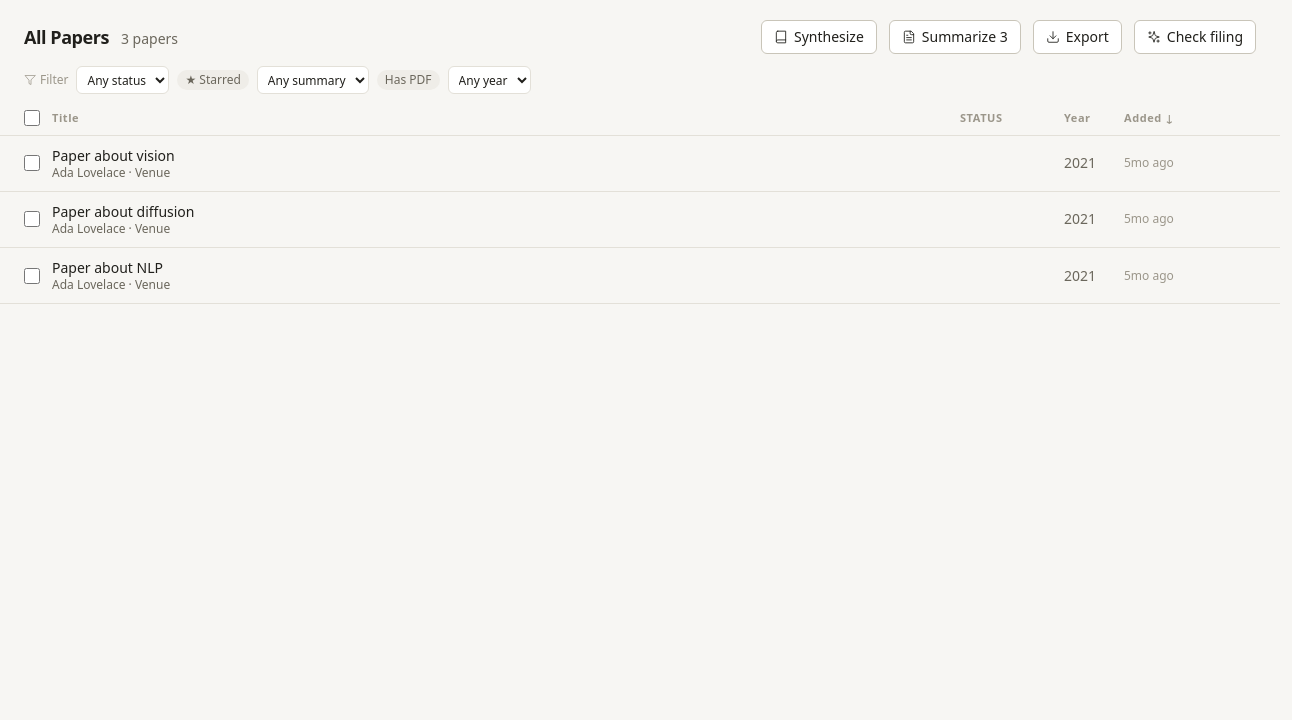
Scenario: LibraryView · synthesis entry › scopes synthesis to the checked subset
Click the checkbox named "Select Paper about diffusion".
click(32, 219)  # box [24,211,40,227]
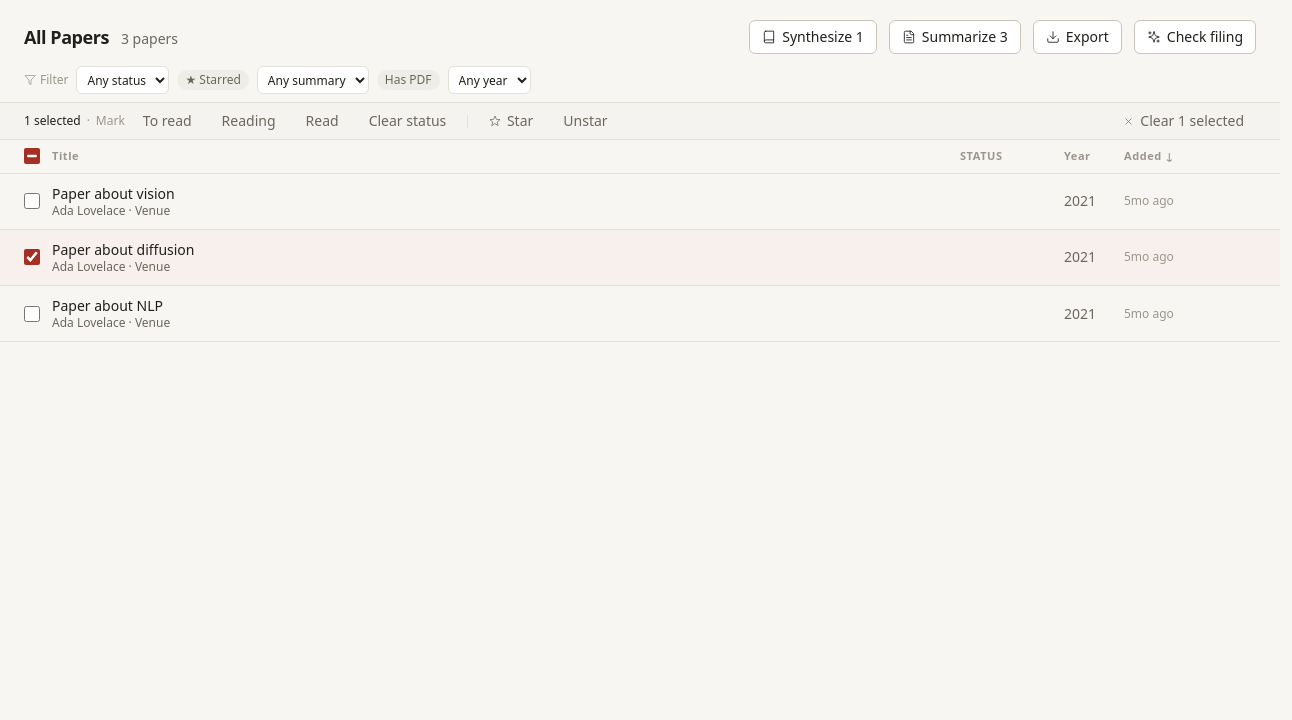
Result: the button "Synthesize 1" is shown
Result: the button "Clear 1 selected" is shown at [1111,109,1256,133]
Click the button "Synthesize 1".
click(813, 37)  # box [749,20,877,54]
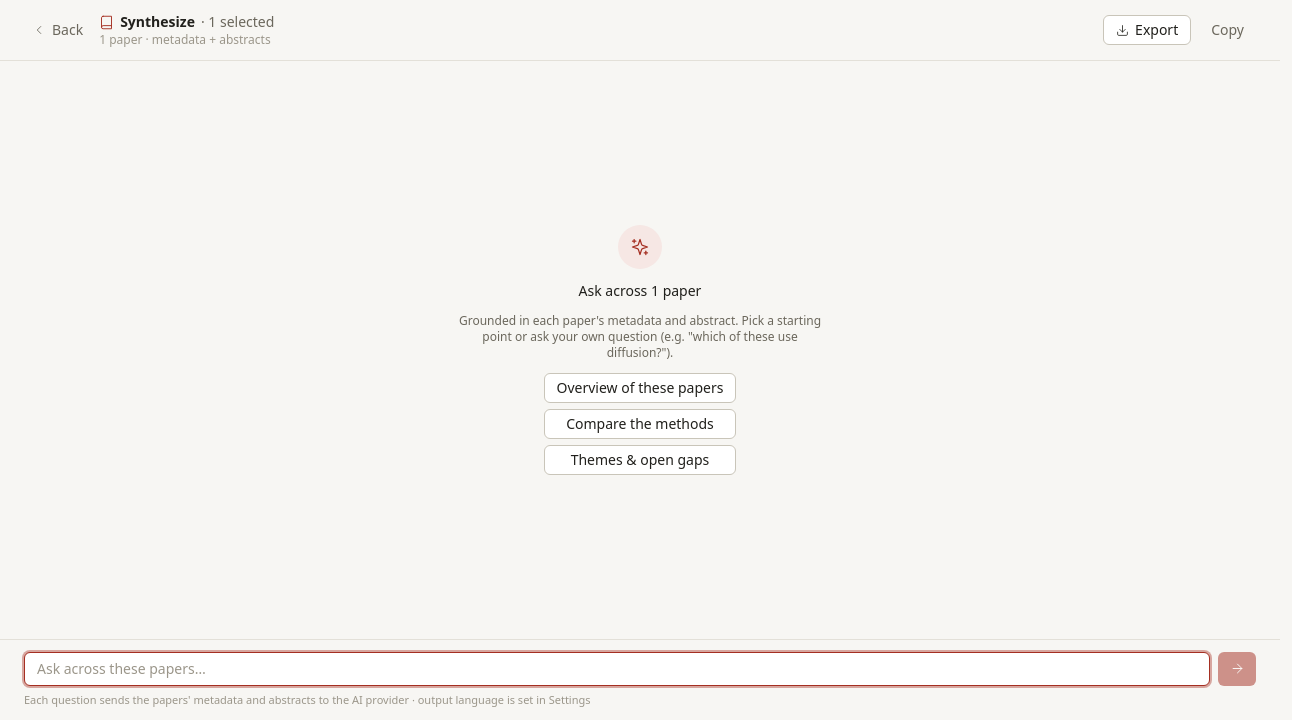
Result: the text "Ask across 1 paper" is shown at [579,281,701,301]
Result: the text "· 1 selected" is shown at [201,12,274,32]
